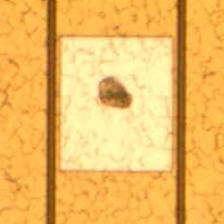PARTICLE: (99, 77, 134, 109)
